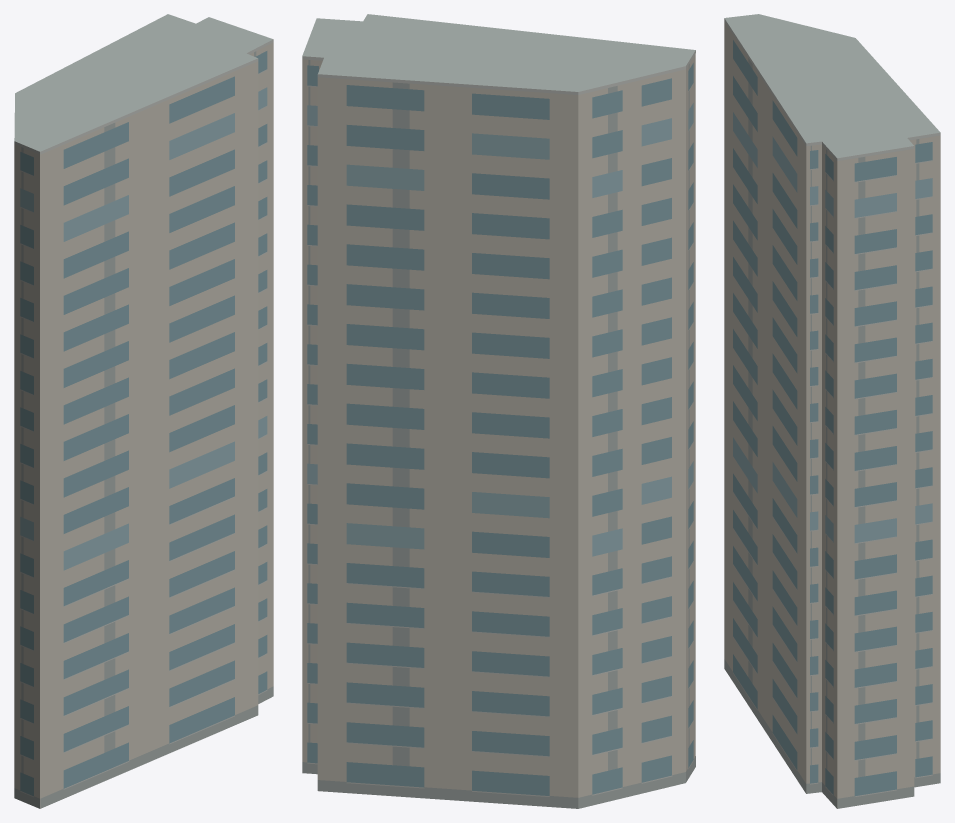
The model's file is residential-20a9d038-7c60-4273-990f-10f1aecd6e2e.glb.
3 renders of one model, left to right at view 1: azimuth 30°, elevation 25°; view 2: azimuth 150°, elevation 25°; view 3: azimuth 270°, elevation 25°, orthographic. The views are drawn at different scales.
Visible parts, largest first — view 1: residential-20a9d038-7c60-4273-990f-10f1aecd6e2e.tmp; view 2: residential-20a9d038-7c60-4273-990f-10f1aecd6e2e.tmp; view 3: residential-20a9d038-7c60-4273-990f-10f1aecd6e2e.tmp.
Boxes of the visible parts, box(x1,y1,x2,y2) form: residential-20a9d038-7c60-4273-990f-10f1aecd6e2e.tmp: box(14, 14, 273, 808); residential-20a9d038-7c60-4273-990f-10f1aecd6e2e.tmp: box(302, 14, 695, 808); residential-20a9d038-7c60-4273-990f-10f1aecd6e2e.tmp: box(724, 14, 940, 808).
Bounding box in the file's own units: 26.18 × 55 × 16.59.
